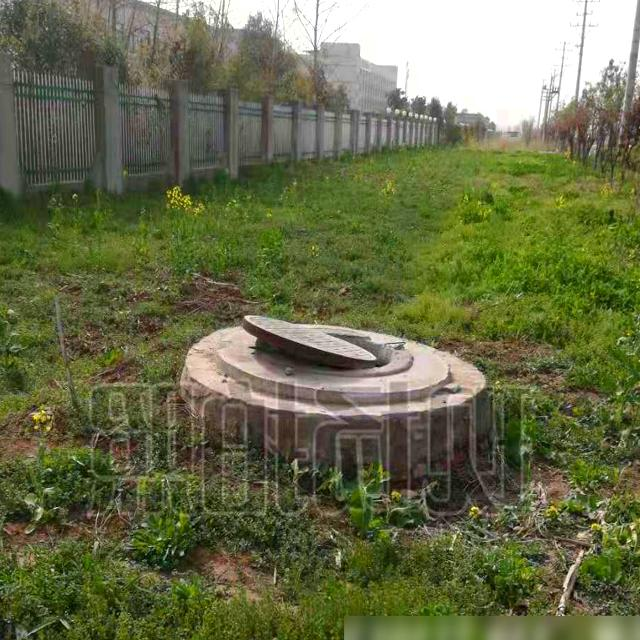uncovered: (211, 315, 448, 393)
